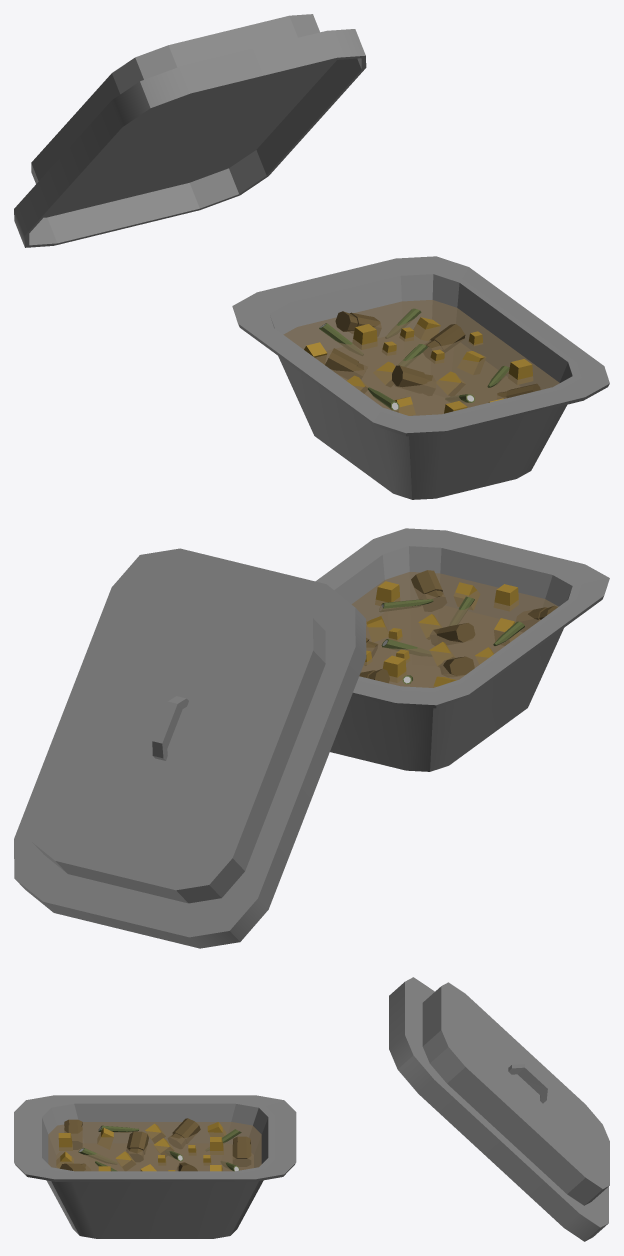
File: dinengdeng.fbx
The picture shows the model from 3 angles, top to bottom: view 1: azimuth 30°, elevation 25°; view 2: azimuth 150°, elevation 25°; view 3: azimuth 270°, elevation 25°; orthographic projection. The views are drawn at different scales.
Visible parts, largest first — view 1: pCylinder8, pCube4; view 2: pCube4, pCylinder8; view 3: pCylinder8, pCube4.
Boxes of the visible parts, x1=… form: pCylinder8: x1=232, y1=256, x2=609, y2=499; pCube4: x1=14, y1=14, x2=366, y2=247; pCube4: x1=14, y1=548, x2=366, y2=948; pCylinder8: x1=315, y1=528, x2=609, y2=771; pCylinder8: x1=14, y1=1095, x2=296, y2=1238; pCube4: x1=389, y1=977, x2=609, y2=1241.
Size of the model in its own units: 3.84 by 4.17 by 10.92.
